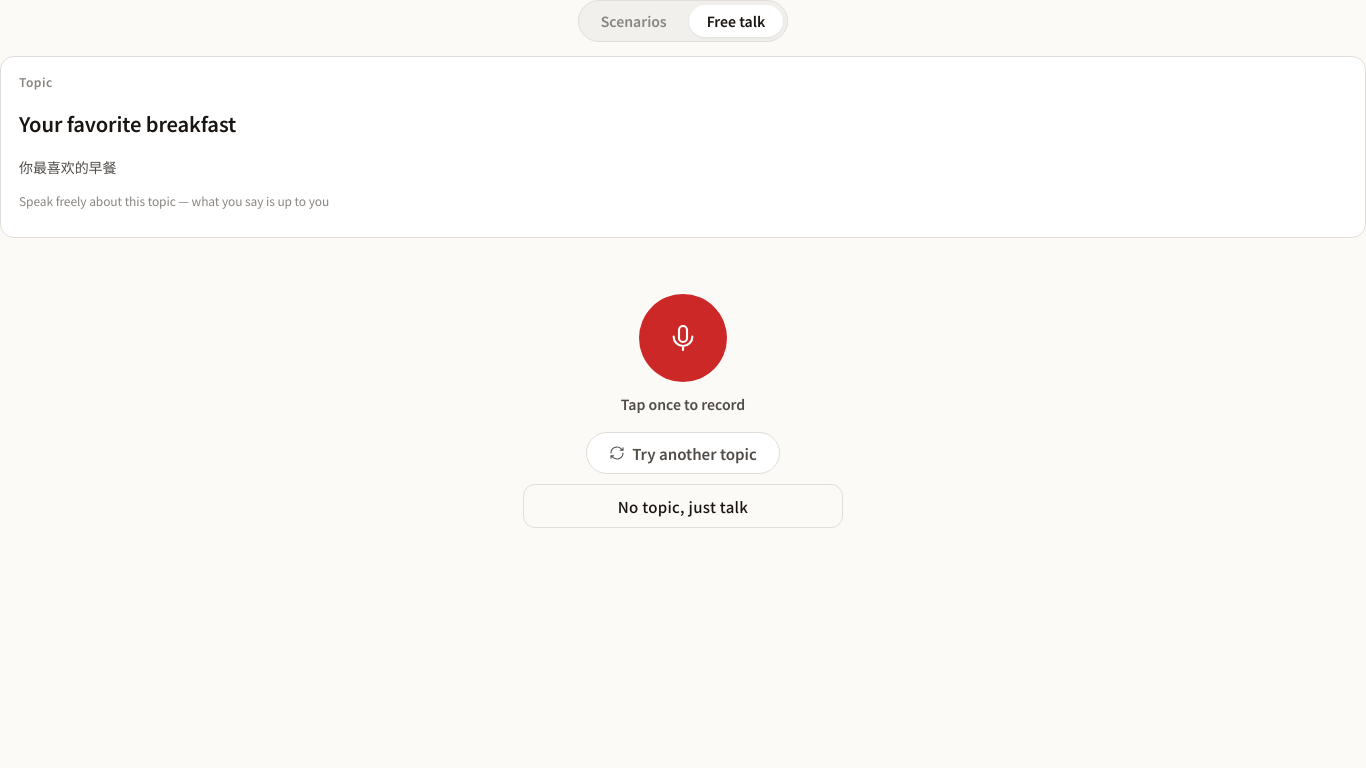
Test: PracticePage 自由说模式 › tapping record in free mode creates a session with mode/freeTopic before recording
Expected: the text "Your favorite breakfast" is shown, [19,109,236,138]
Click the button with class "su-rec" at (683, 338), box [639,294,727,382]
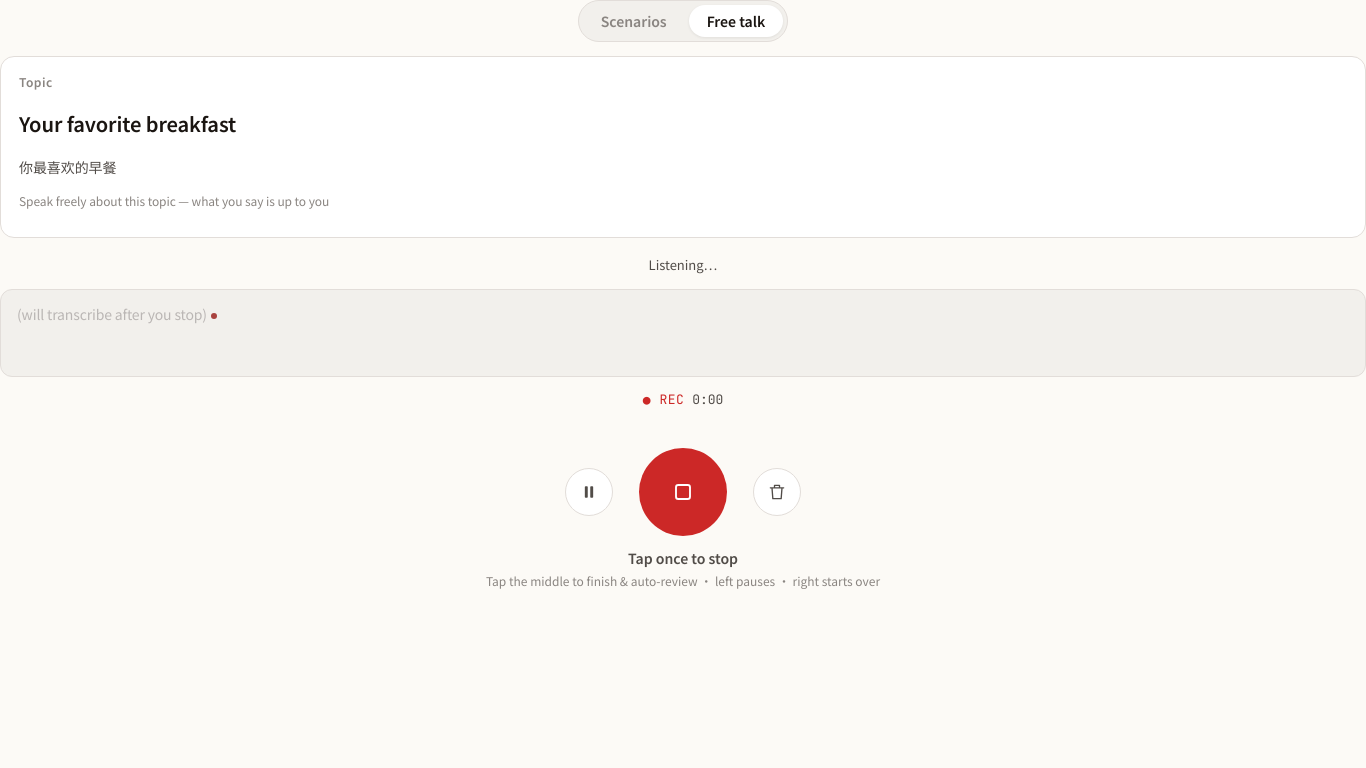
Result: the text "Tap once to stop" is shown at [628,548,738,568]
